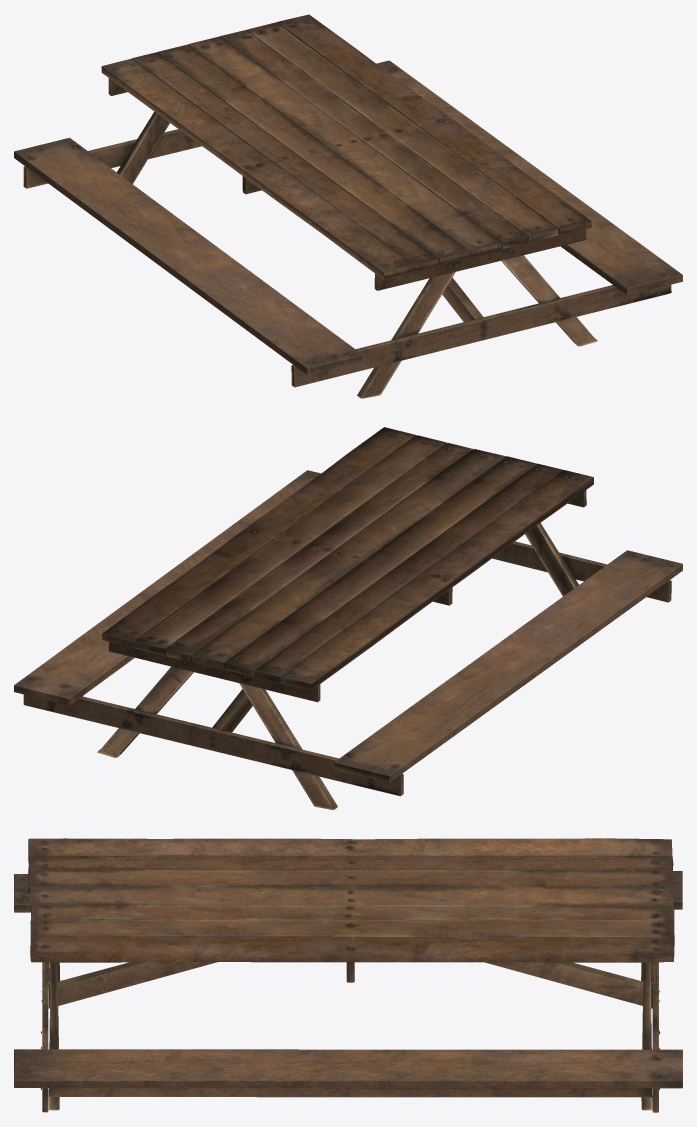
Rendered from wooden_picnic_table_lod.glb.
3 renders of one model, top to bottom at view 1: azimuth 30°, elevation 25°; view 2: azimuth 150°, elevation 25°; view 3: azimuth 270°, elevation 25°, orthographic. The views are drawn at different scales.
Visible parts, largest first — view 1: wooden_picnic_table; view 2: wooden_picnic_table; view 3: wooden_picnic_table.
Boxes of the visible parts, x1,y1,x2,y2 form: wooden_picnic_table: (14,14,682,398); wooden_picnic_table: (14,427,682,809); wooden_picnic_table: (14,838,682,1112).
Size of the model in its own units: 2.24 by 0.7462 by 3.02.
2 materials, 2 textured.
